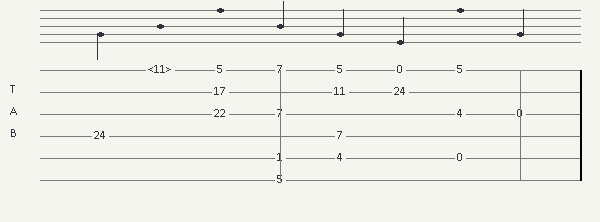0: (397, 64, 407, 76), (457, 152, 467, 164), (517, 108, 527, 120)
1: (277, 152, 287, 164)
11: (334, 86, 350, 98)
17: (214, 86, 230, 98)
22: (214, 108, 230, 120)
24: (94, 130, 110, 142), (394, 86, 410, 98)
4: (337, 152, 347, 164), (457, 108, 467, 120)
5: (217, 64, 227, 76), (277, 174, 287, 186), (337, 64, 347, 76), (457, 64, 467, 76)
7: (277, 64, 287, 76), (277, 108, 287, 120), (337, 130, 347, 142)
harmonic: (148, 64, 176, 76)
